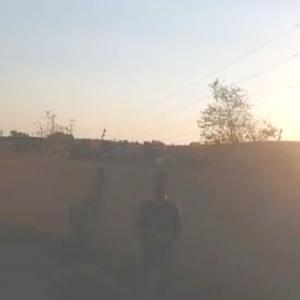follow: (128, 166, 188, 299)
